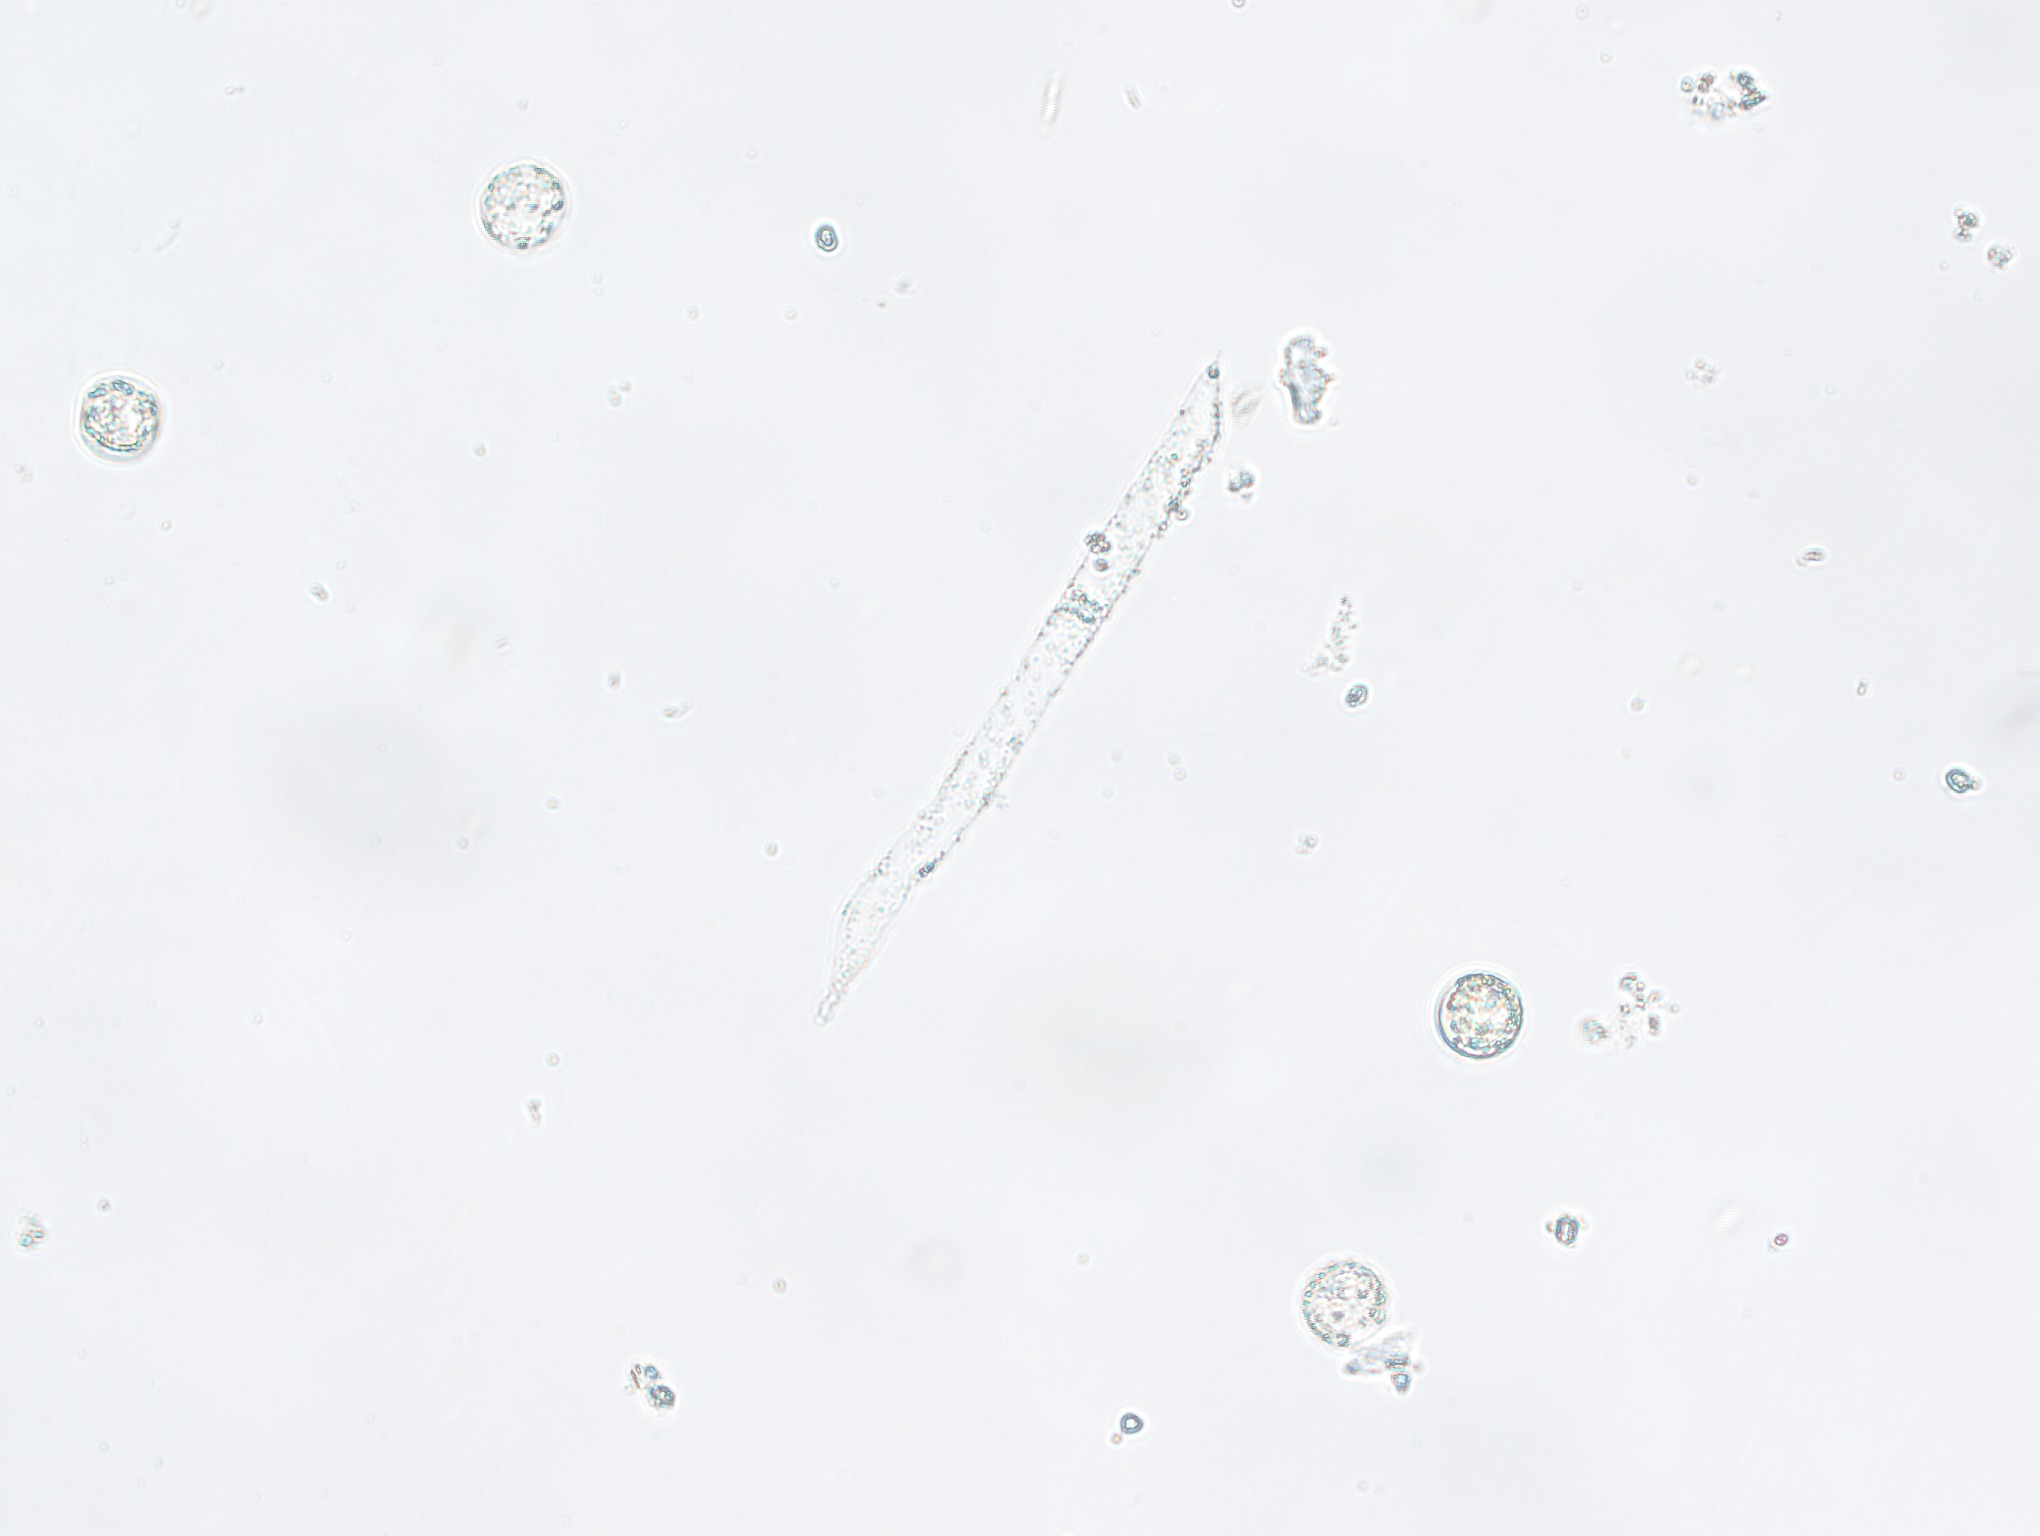rhizosolenia: (816, 352, 1226, 1050)
